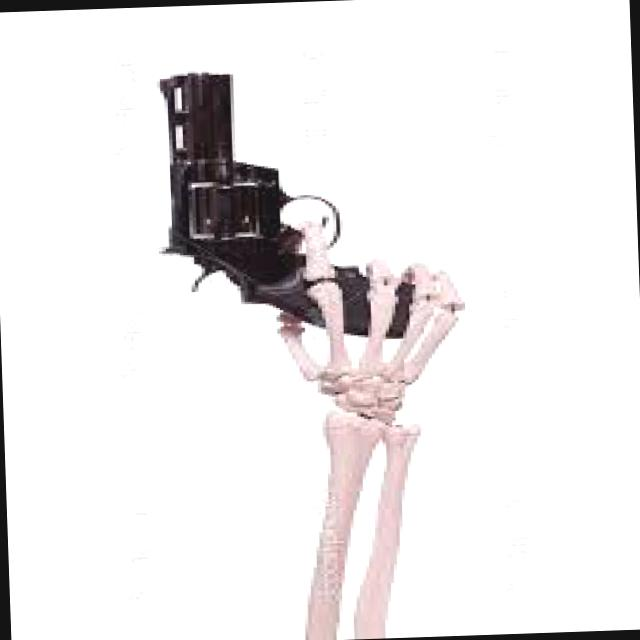handgun: (149, 64, 431, 345)
